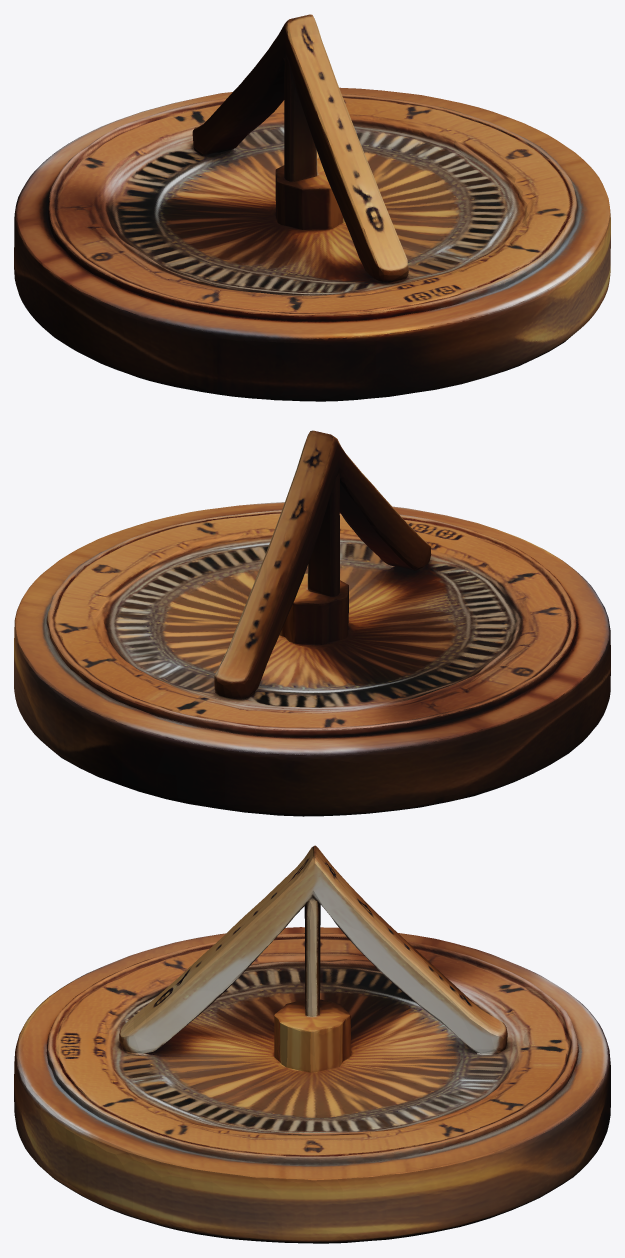
Rendered from wooden-sundial-3d.jpeg.glb.
3 renders of one model, top to bottom at view 1: azimuth 30°, elevation 25°; view 2: azimuth 150°, elevation 25°; view 3: azimuth 270°, elevation 25°, orthographic.
Parts seen in each view (by area): view 1: world; view 2: world; view 3: world.
Part boxes in pixels (<box>): world: <box>14,14,610,401</box>; world: <box>14,430,610,816</box>; world: <box>14,845,610,1243</box>.
Size of the model in its own units: 1 by 0.488 by 0.9996.
Materials: 1 (1 with a texture image).
